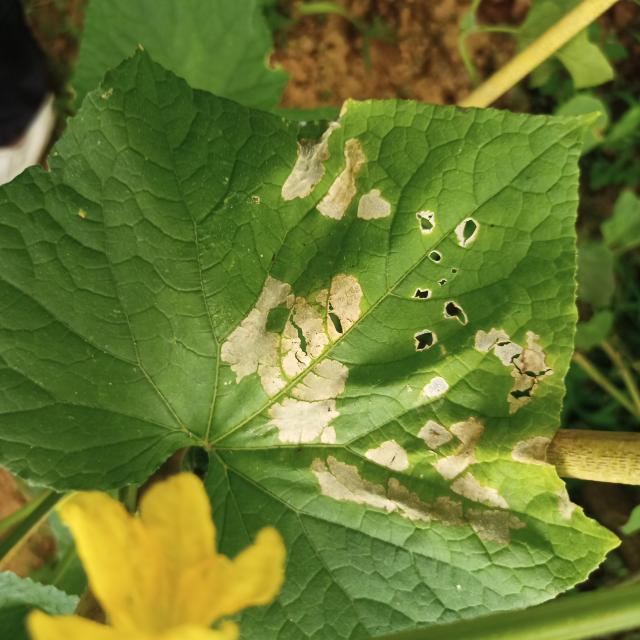disease_cucumber: (220, 118, 552, 546)
